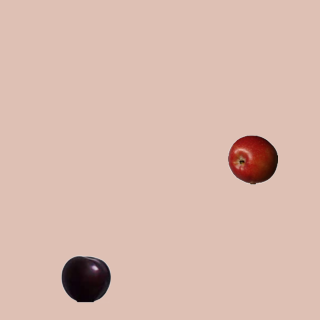Apple Braeburn: (227, 134, 277, 184)
Cherry Wax Black: (60, 253, 110, 303)
